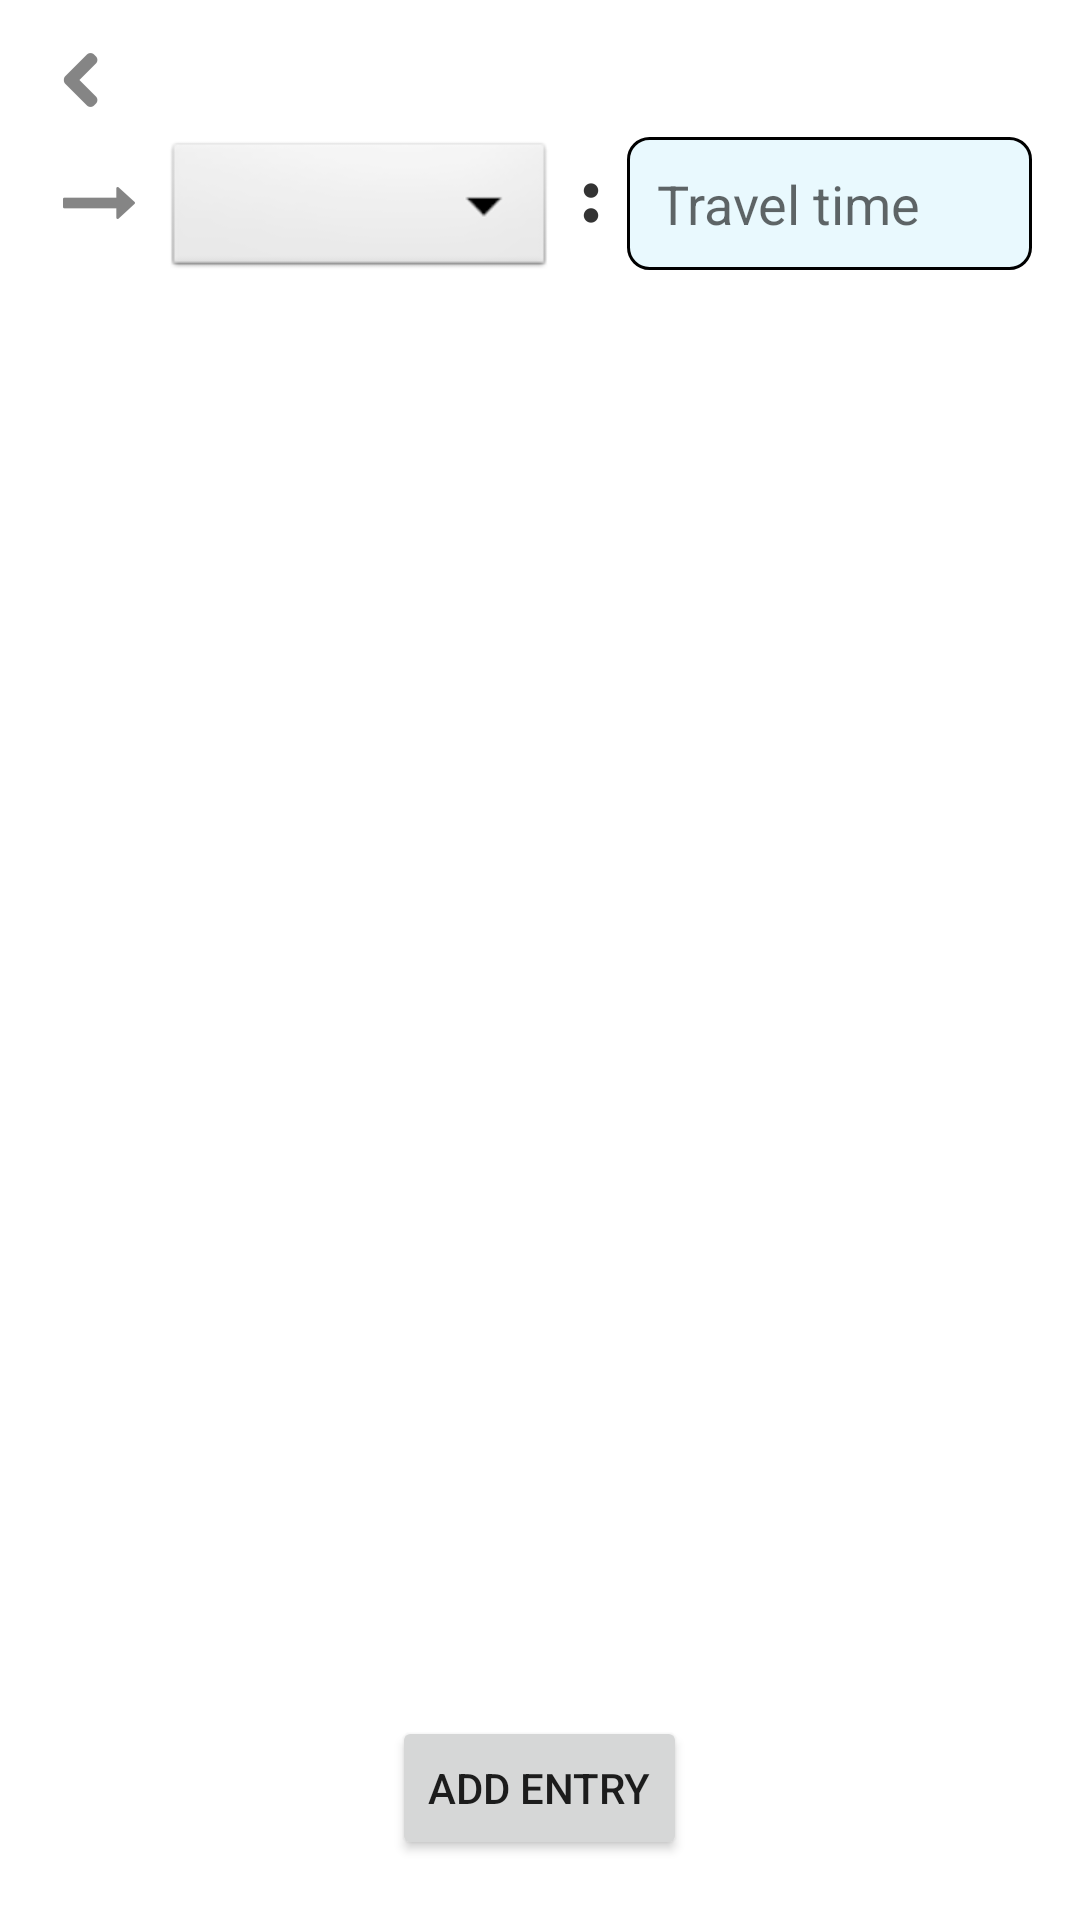

Where to tap for icons on this 1080px×1920px app screen, as point (x, y):
backarrow: point (81, 80)
colon: point (591, 203)
rightarrow: point (99, 203)
